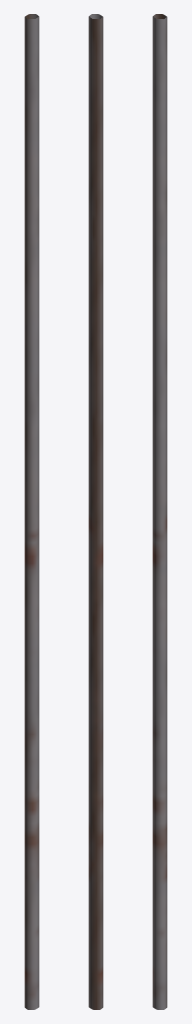
Rendered from CableWire.fbx.
The picture shows the model from 3 angles, left to right: view 1: azimuth 30°, elevation 25°; view 2: azimuth 150°, elevation 25°; view 3: azimuth 330°, elevation 25°; orthographic projection.
Visible parts, largest first — view 1: Cable_Wire_LOD0; view 2: Cable_Wire_LOD0; view 3: Cable_Wire_LOD0.
Part boxes in pixels (bbox=[...]): Cable_Wire_LOD0: bbox=[24, 14, 39, 1009]; Cable_Wire_LOD0: bbox=[88, 14, 103, 1009]; Cable_Wire_LOD0: bbox=[152, 14, 167, 1009].
Size of what is drawn, in the model's own units: 0.024 by 2 by 0.024.
